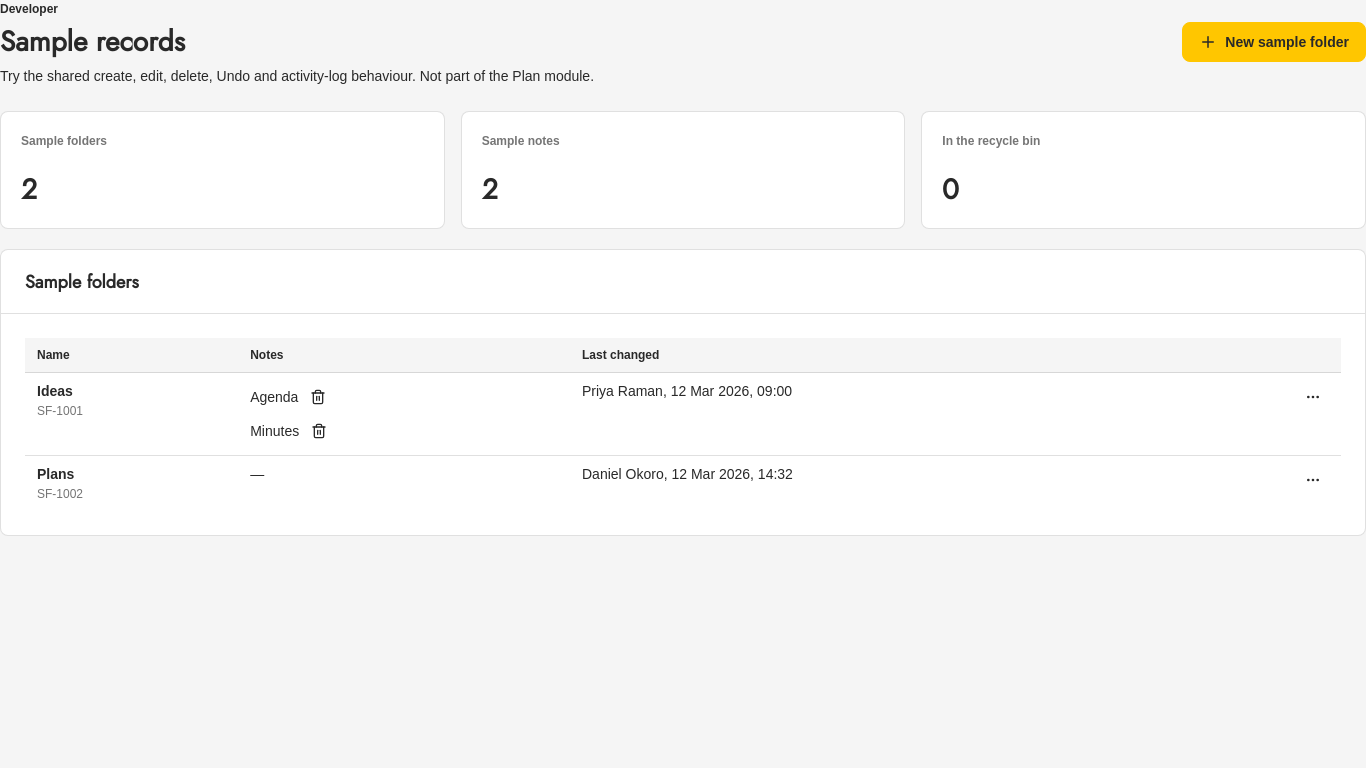
Test case: SampleRecordsPage: create and edit › opens Edit from the actions menu with the folder’s name, and saves the new name (US5)
Expected: the element "Sample folders" is shown, [0,249,1365,536]
Click the button named "Actions for Ideas" at (1313, 397), box [1297,381,1329,413]
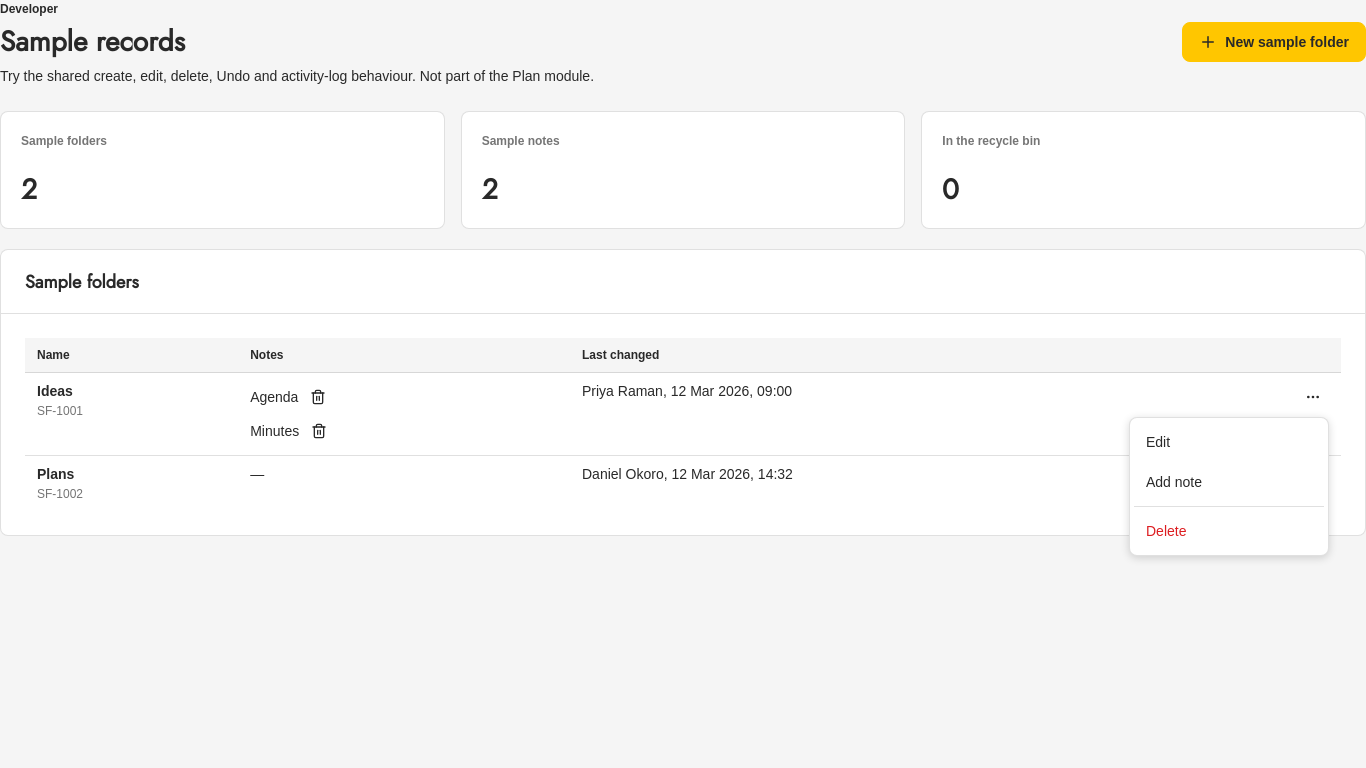
Click the menu item "Edit" at (1158, 442), box [1146,434,1170,450]
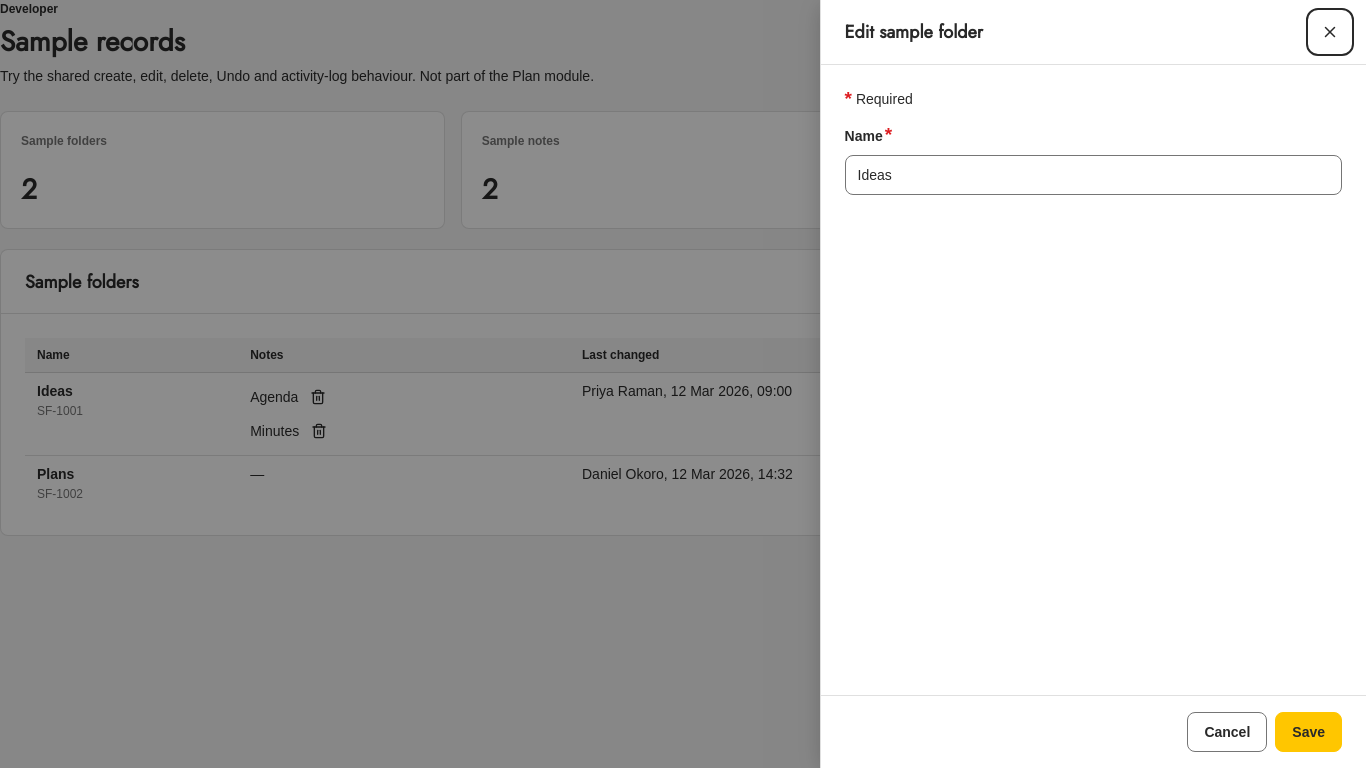
Result: the field labelled "Name" holds "Ideas"
Replace the text in the field labelled "Name" with "Ideas 2" at (1093, 175), box [845,155,1342,195]
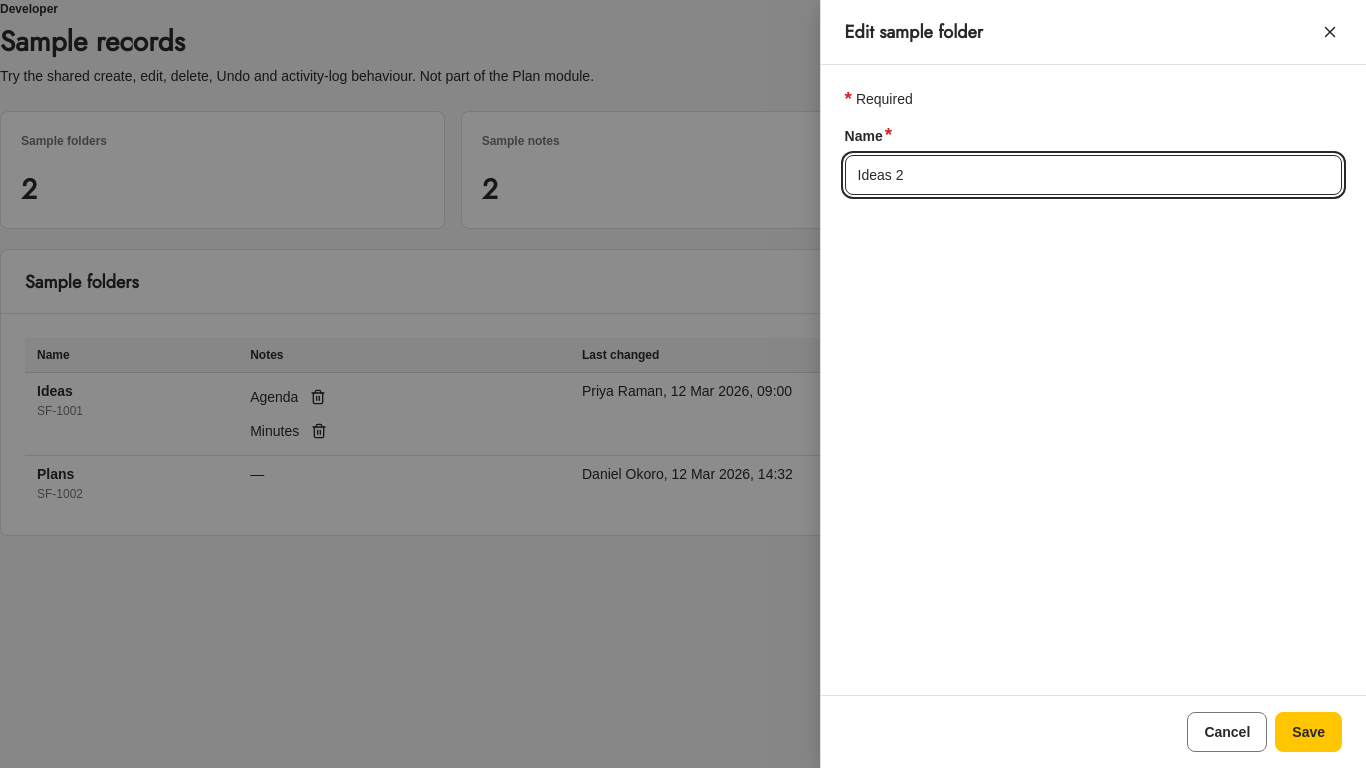
Click the button "Save" at (1309, 732), box [1275,712,1342,752]
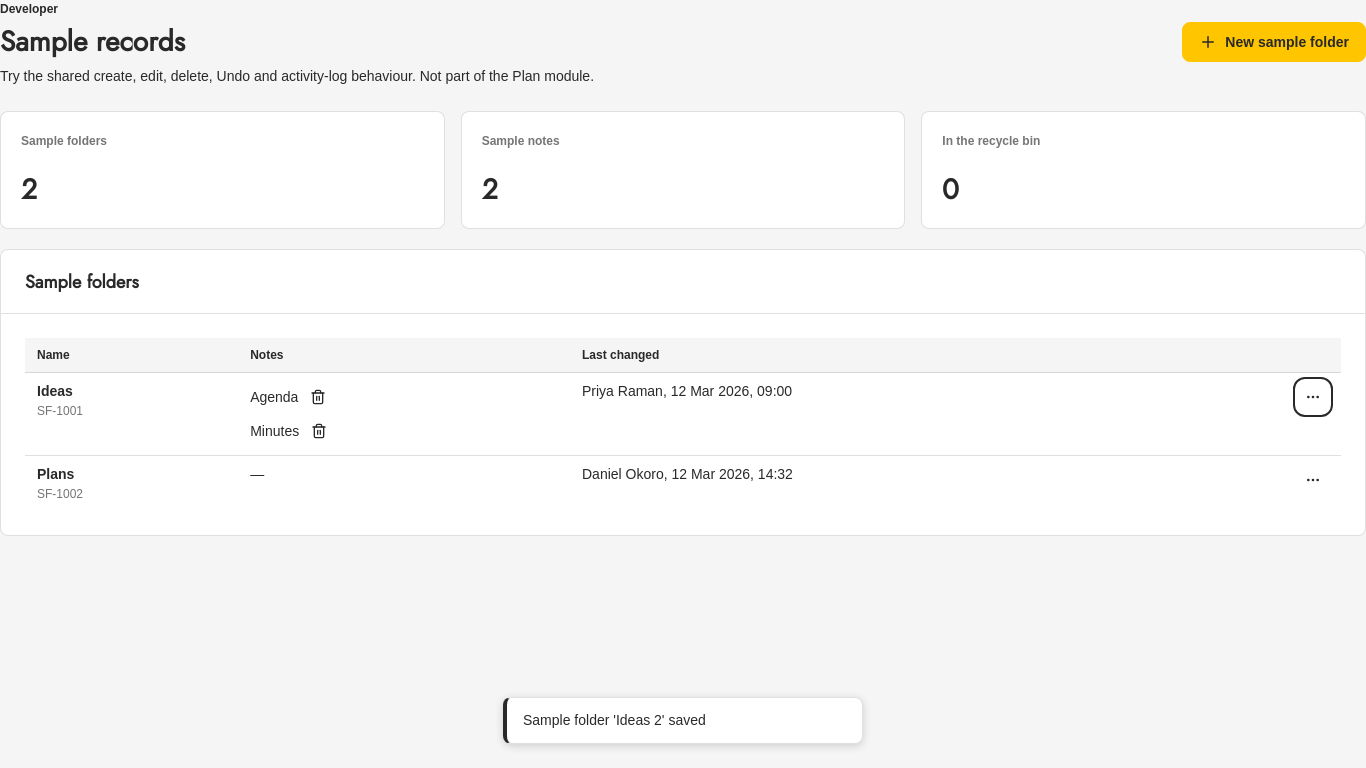
Result: the dialog is gone
